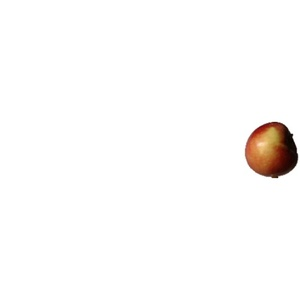maçã braeburn: (242, 118, 296, 178)
